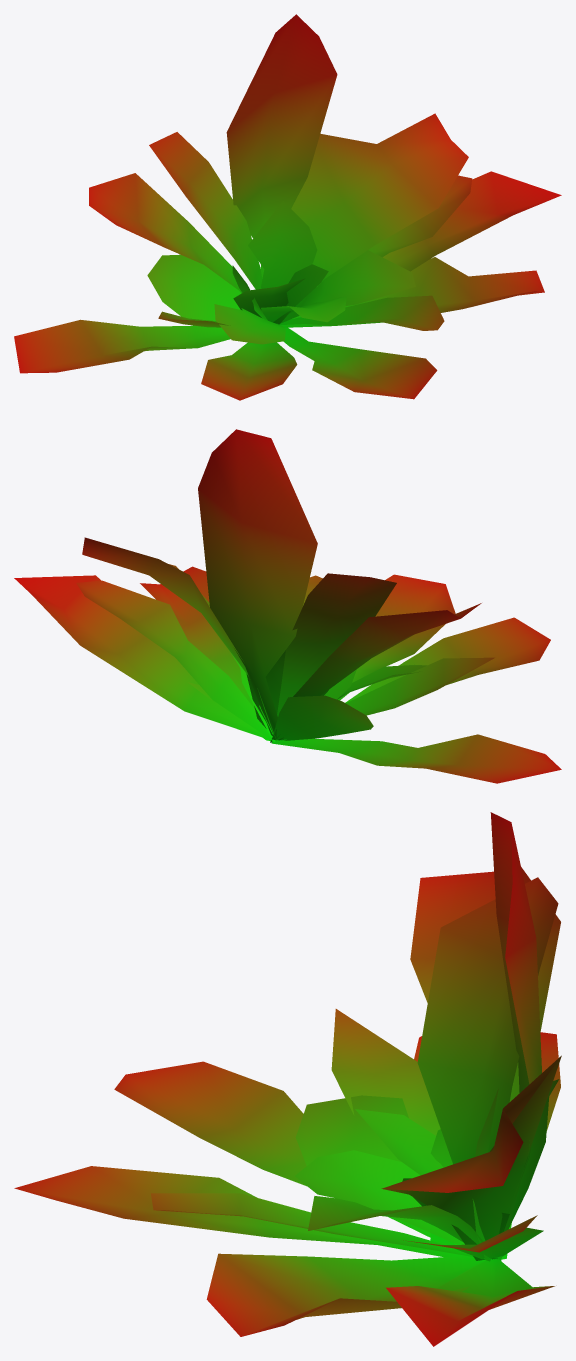
The model's file is Var27_LOD0.fbx.
3 renders of one model, top to bottom at view 1: azimuth 30°, elevation 25°; view 2: azimuth 150°, elevation 25°; view 3: azimuth 270°, elevation 25°, orthographic. The views are drawn at different scales.
Visible parts, largest first — view 1: _nocb_Var27_LOD0; view 2: _nocb_Var27_LOD0; view 3: _nocb_Var27_LOD0.
Part boxes in pixels (x1,y1,x2,y2): _nocb_Var27_LOD0: [14, 14, 561, 400]; _nocb_Var27_LOD0: [14, 429, 561, 783]; _nocb_Var27_LOD0: [14, 812, 561, 1346].
Size of the model in its own units: 15.8 by 8.59 by 9.02.
